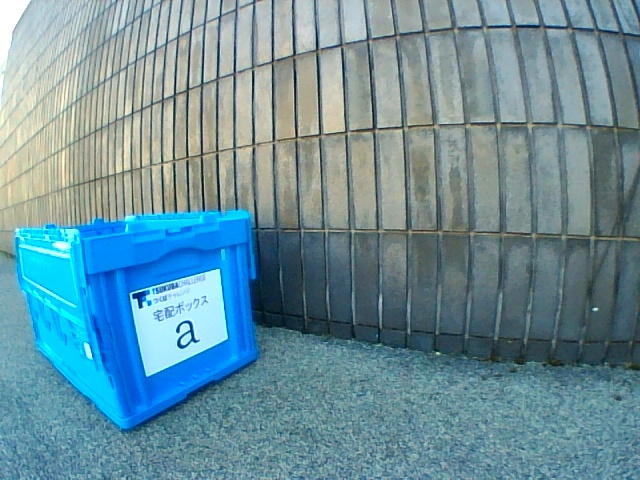blue_box: (15, 210, 258, 429)
tag_a: (161, 302, 205, 349)
